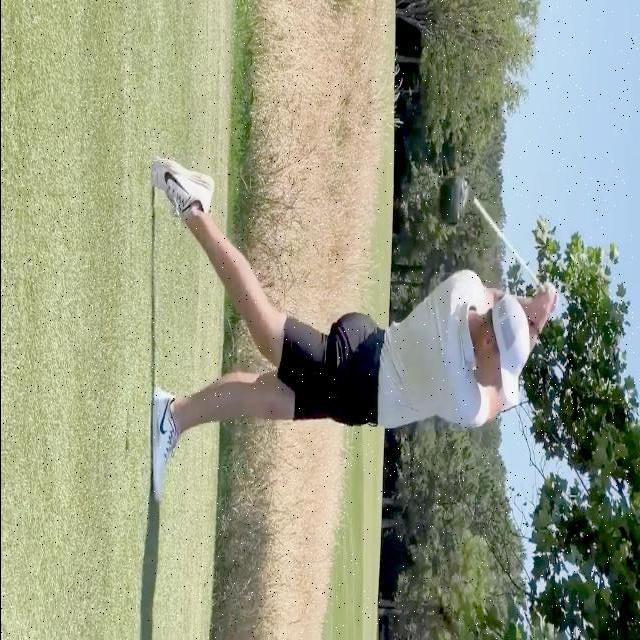golf club-handle: (437, 178, 546, 293)
golf club-head: (437, 178, 470, 227)
